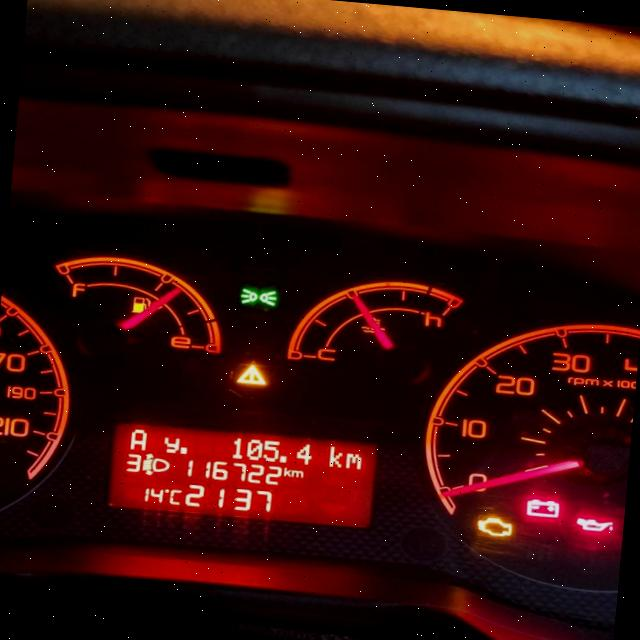odometer: (102, 416, 387, 534)
